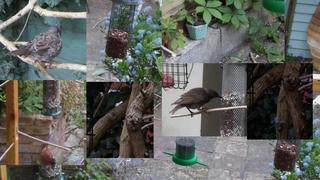dunnock: (6, 24, 62, 68)
starling: (169, 87, 223, 118)
